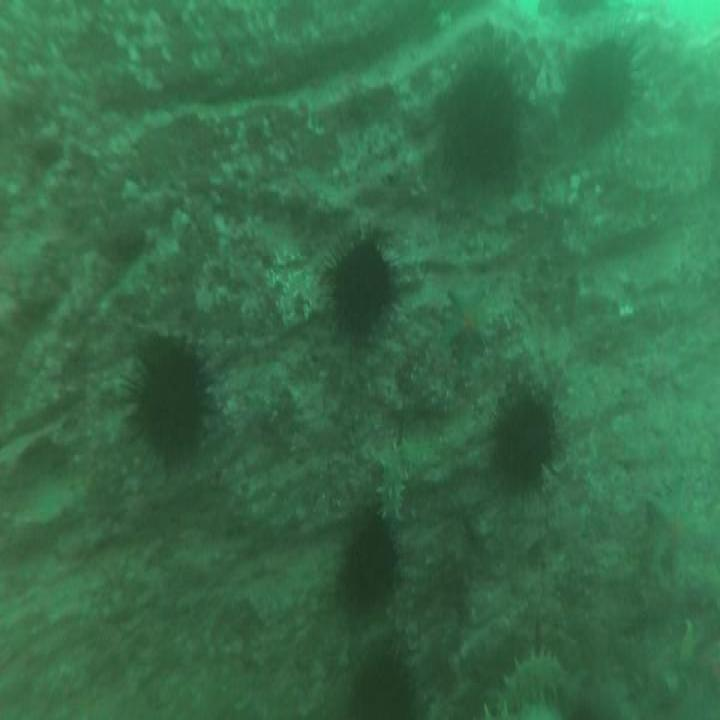echinus: (123, 329, 215, 476), (433, 48, 522, 194), (558, 11, 647, 156), (490, 375, 560, 509), (319, 224, 393, 350), (338, 514, 400, 626), (346, 643, 428, 720)
holothurian: (484, 633, 567, 720), (377, 428, 414, 526)
starfish: (435, 274, 500, 361)
